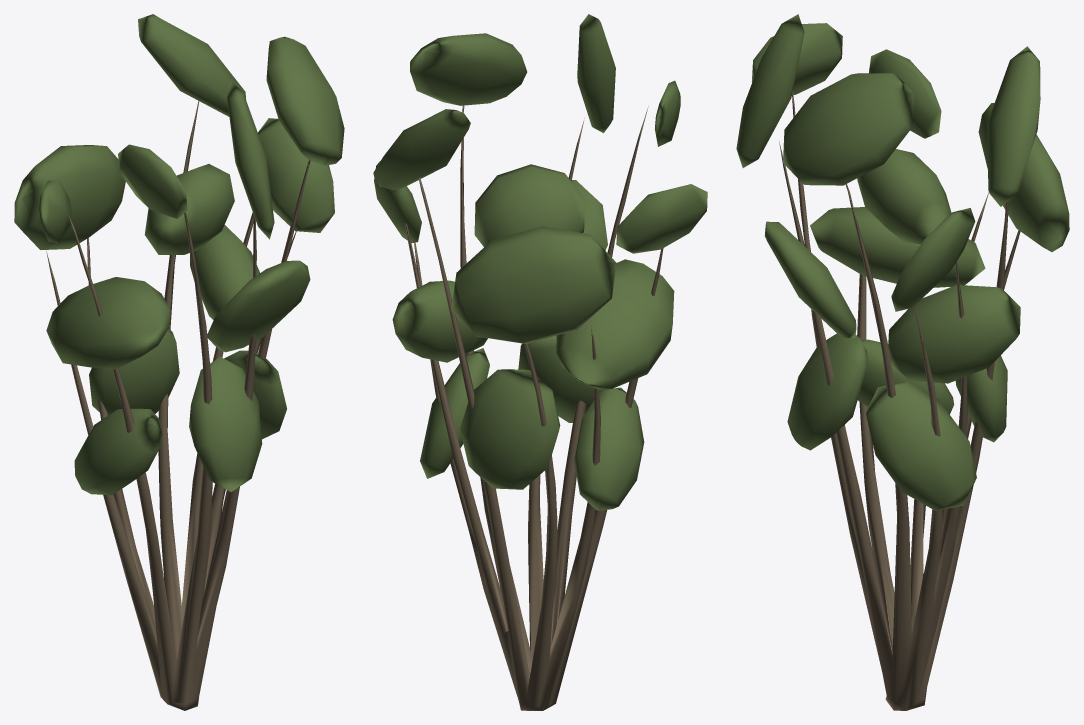
Rendered from Bruyere_1_Niveau2.fbx.
The picture shows the model from 3 angles, left to right: view 1: azimuth 30°, elevation 25°; view 2: azimuth 150°, elevation 25°; view 3: azimuth 270°, elevation 25°; orthographic projection. The views are drawn at different scales.
Visible parts, largest first — view 1: Bruyere_1_Niveau2_Jeu; view 2: Bruyere_1_Niveau2_Jeu; view 3: Bruyere_1_Niveau2_Jeu.
Part boxes in pixels (x1,y1,x2,y2): Bruyere_1_Niveau2_Jeu: (14,14,344,710); Bruyere_1_Niveau2_Jeu: (373,14,707,710); Bruyere_1_Niveau2_Jeu: (736,14,1069,710).
Bounding box in the file's own units: 136 × 276 × 121.
